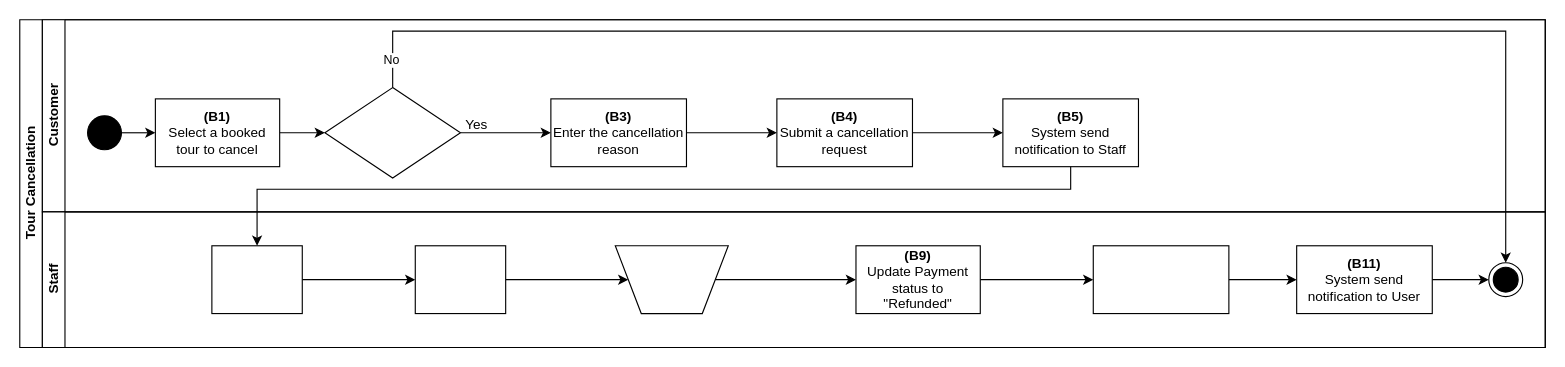
Image size: 1565x367. Some labels were removed from this diagram. Each missing label, with the centre of its shape:
(B10) Updates booking status to " Cancelled": point 1160,279
(B2) Within condition: point 392,132
(B6) Select request in the list: point 256,279
(B7) Accept the request: point 460,279
(B8) Process refund: point 671,279
